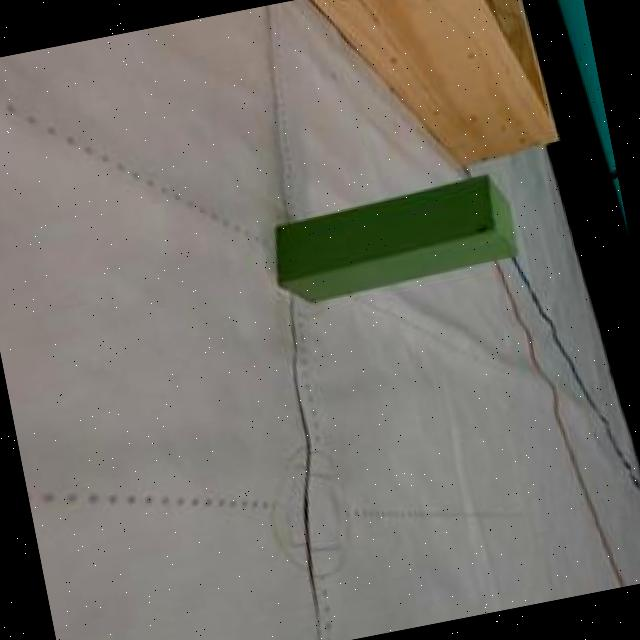greenbox: (264, 170, 524, 305)
